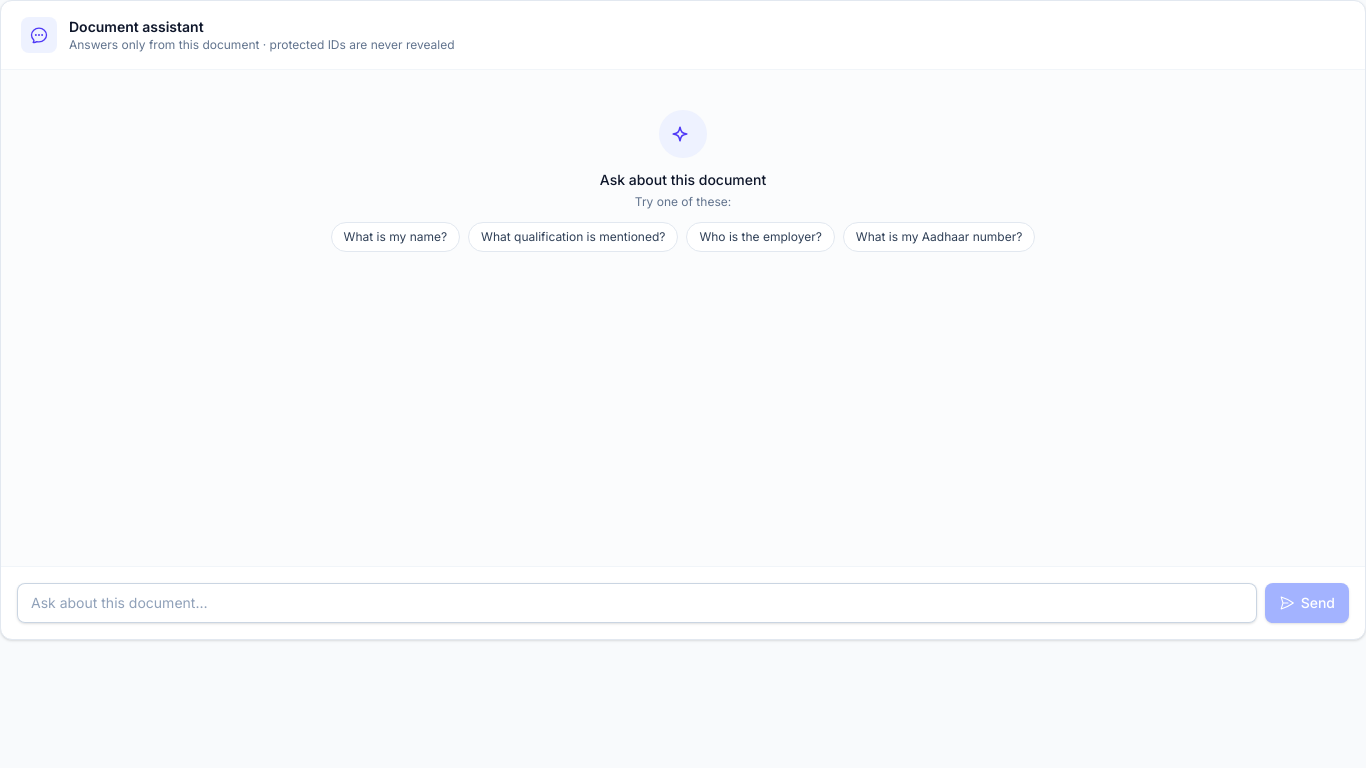
Test case: ChatPanel › shows an error state and restores the input on failure
The width and height of the screenshot is (1366, 768).
In the field named "Your question": (637, 603) [17,583,1257,623], type "hello"
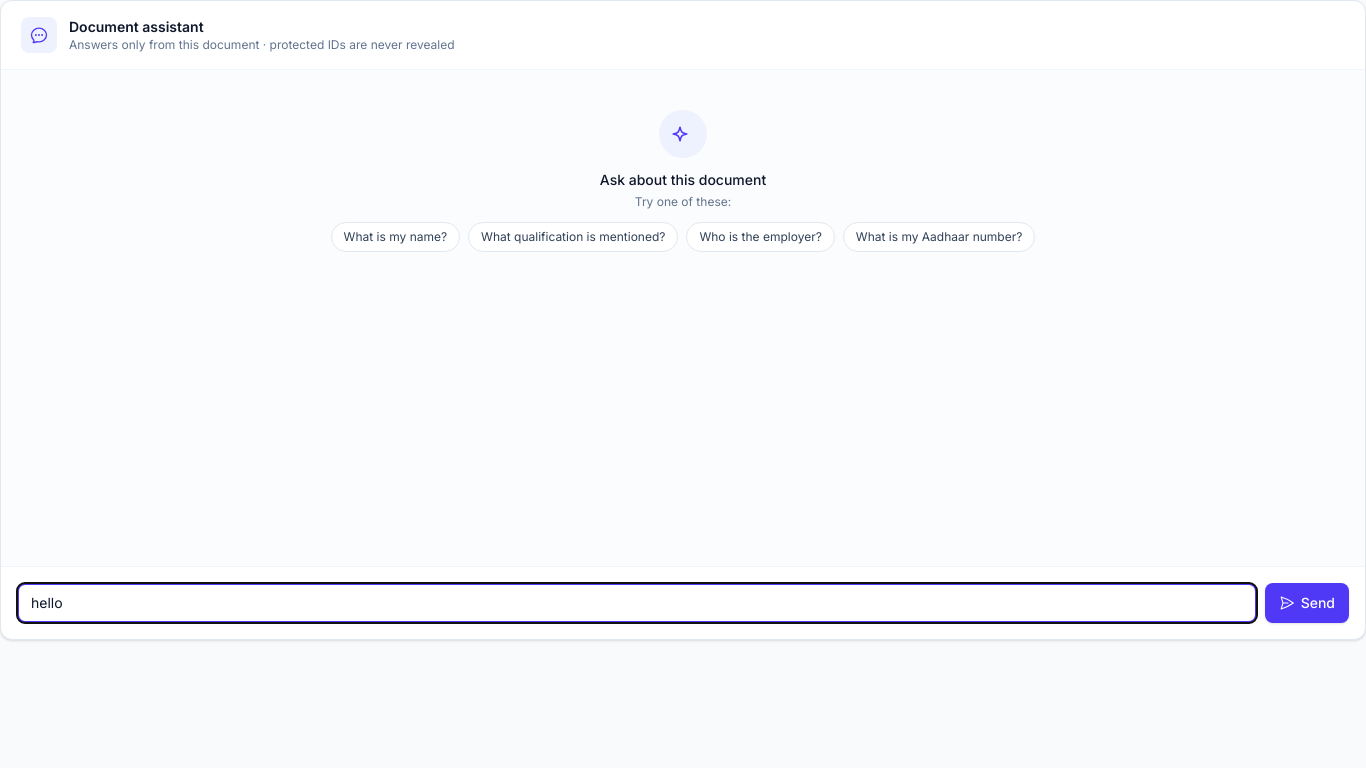
Click the button "Send": (1307, 603) [1265,583,1349,623]
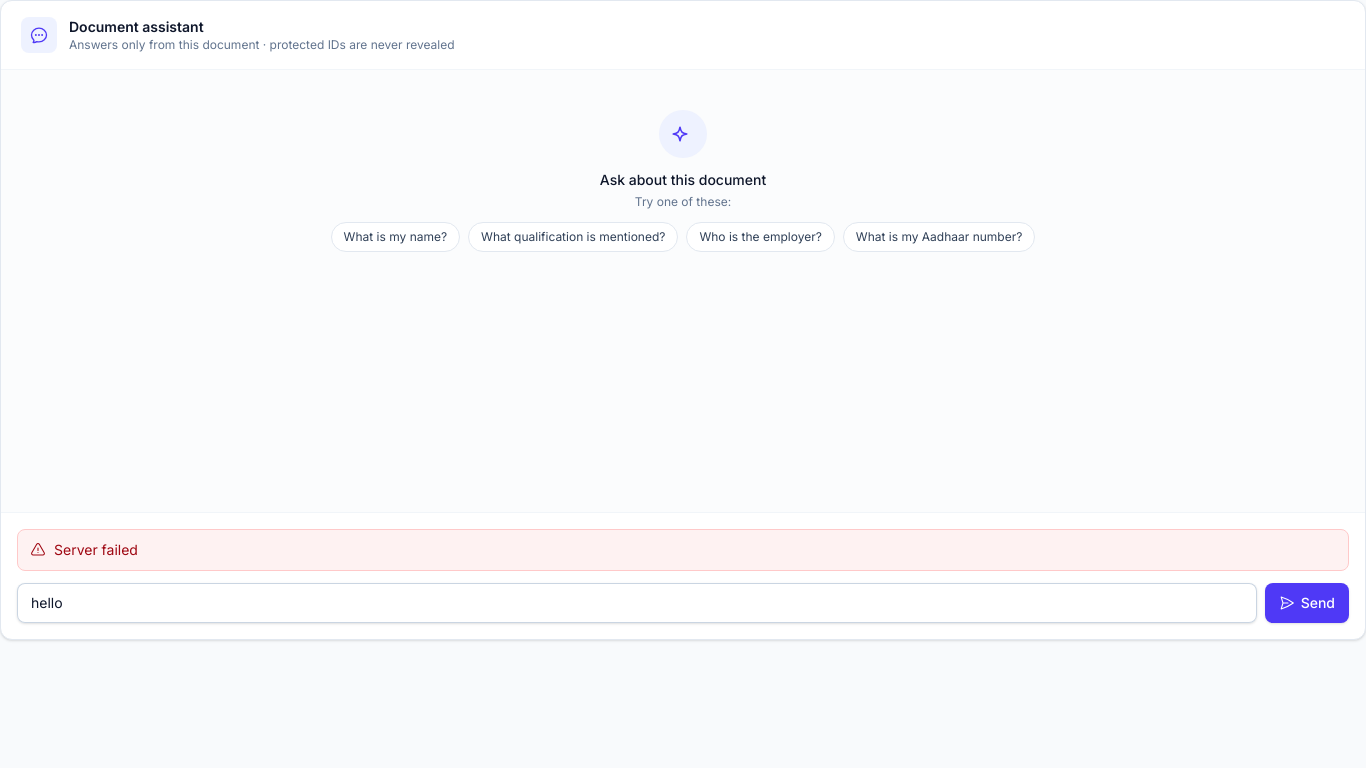
Expected: the message reads "Server failed", [54,541,138,558]
